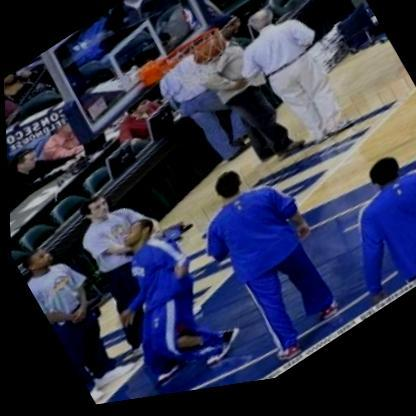basketball: (187, 32, 235, 81)
